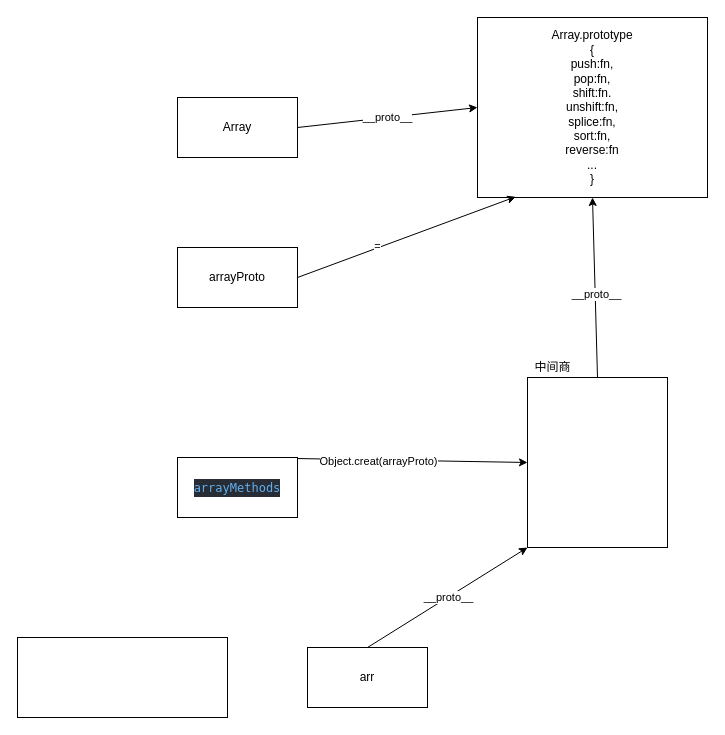
Image size: 725x735. Some labels were removed from this diagram. Each missing label, with the centre of its shape:
let arr = [] arr.__proto__ = arrayMethods: (122,677)
{ push:fn, pop:fn, shift:fn. unshift:fn, splice:fn, sort:fn, reverse:fn }: (597,462)
